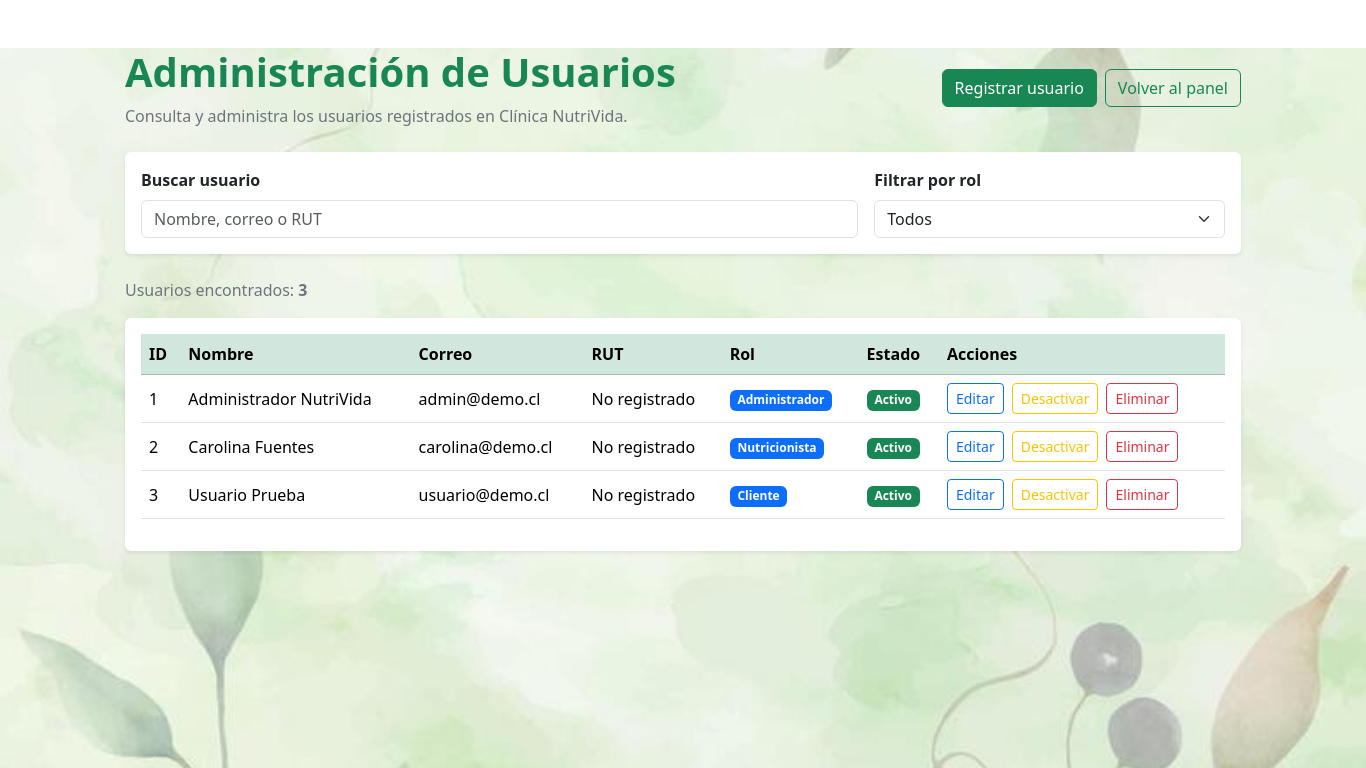
Scenario: Administración de usuarios › permite editar el nombre de un usuario
The width and height of the screenshot is (1366, 768).
expect the text "Usuario Prueba" is shown: met, box [188, 484, 305, 506]
Click the button "Editar" in the row of "Usuario Prueba": x=975, y=494 [947, 479, 1004, 510]
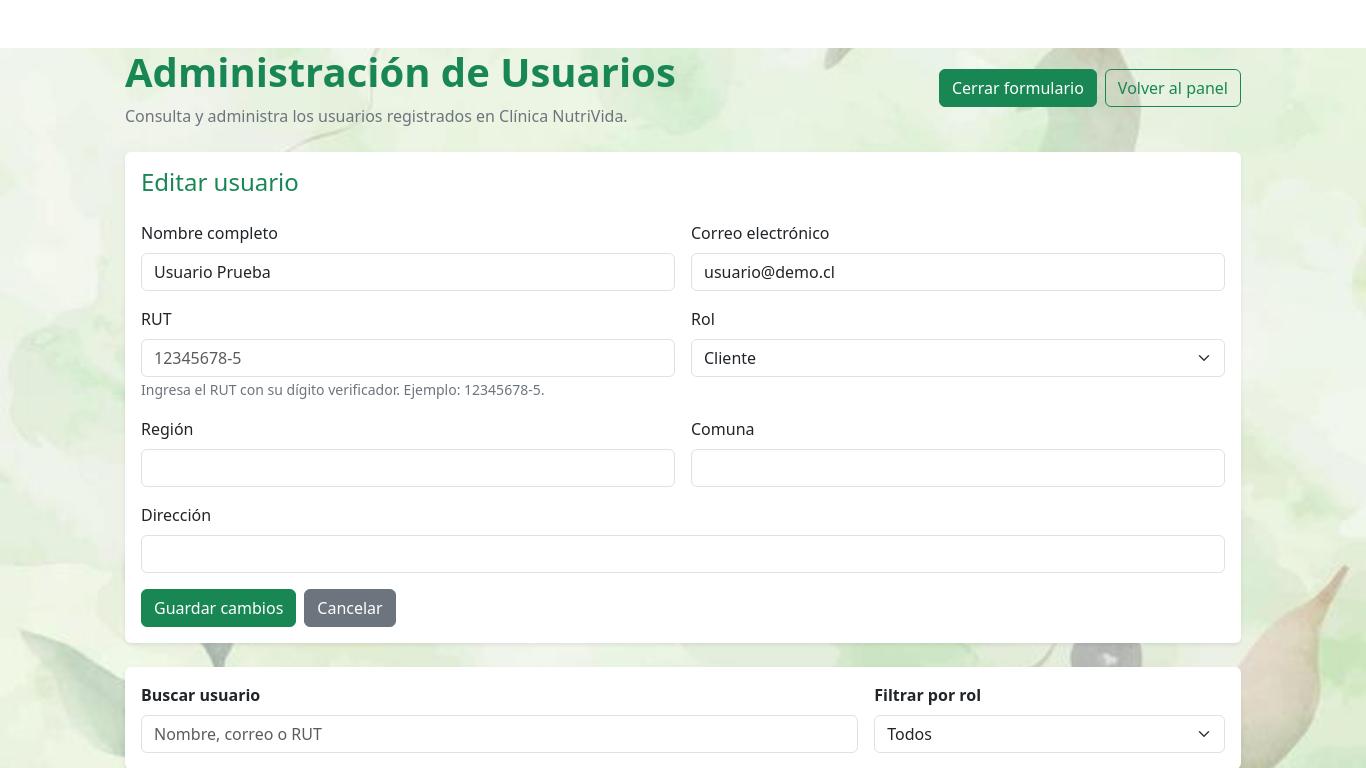
Replace the text in the field labelled "Nombre completo" with "Usuario Actualizado": x=408, y=272 [141, 253, 675, 291]
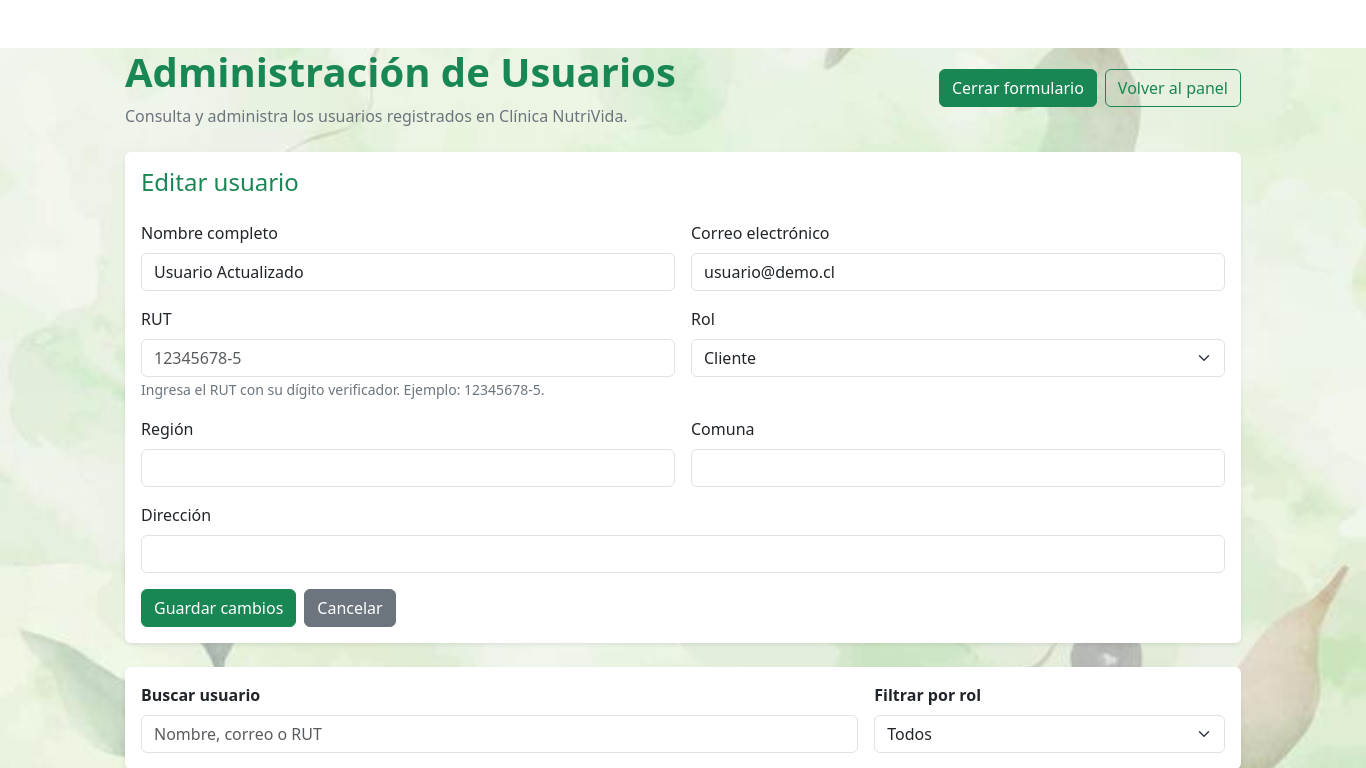
Click the button "Guardar cambios": x=219, y=608 [141, 589, 296, 627]
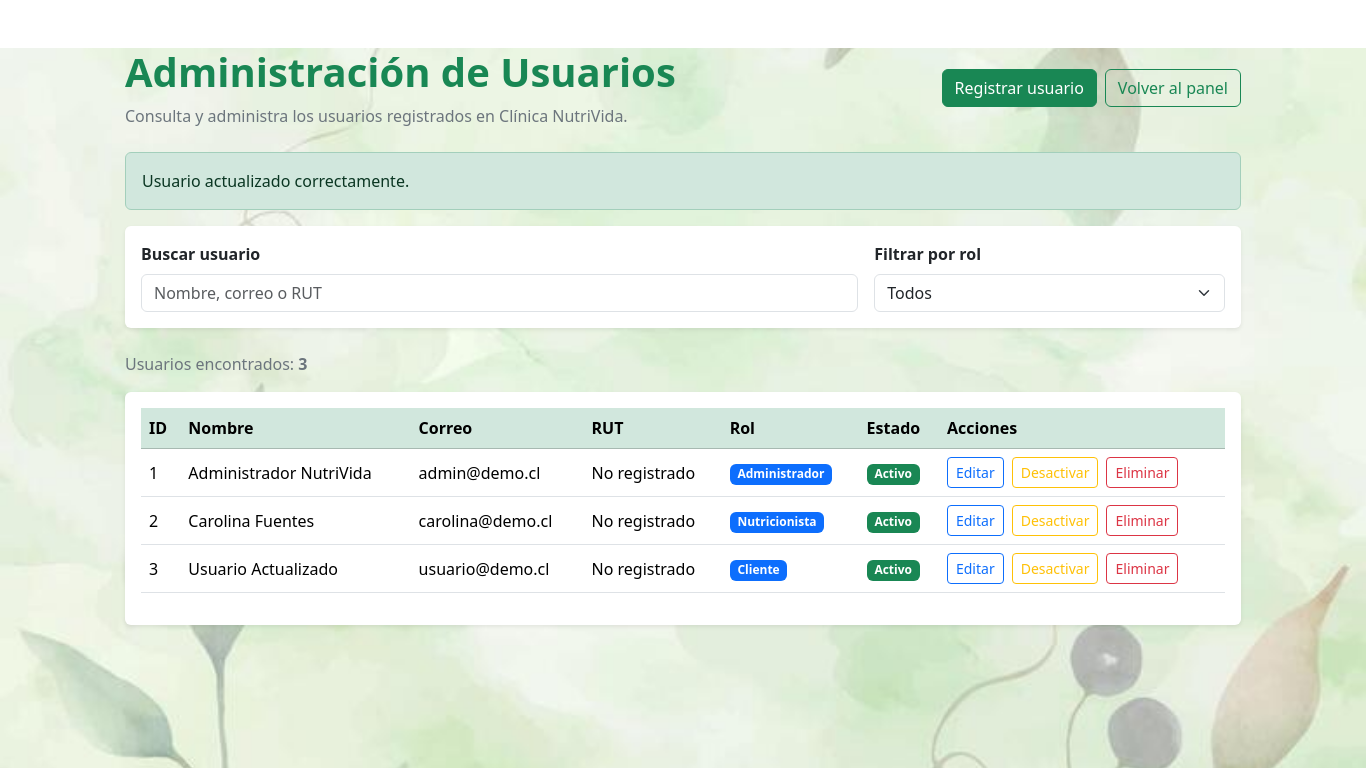
expect the text "Usuario Prueba" is not shown: met
expect the text "Usuario actualizado correctamente." is shown: met, box [125, 152, 1241, 210]
expect the text "Usuario Actualizado" is shown: met, box [180, 544, 411, 592]
